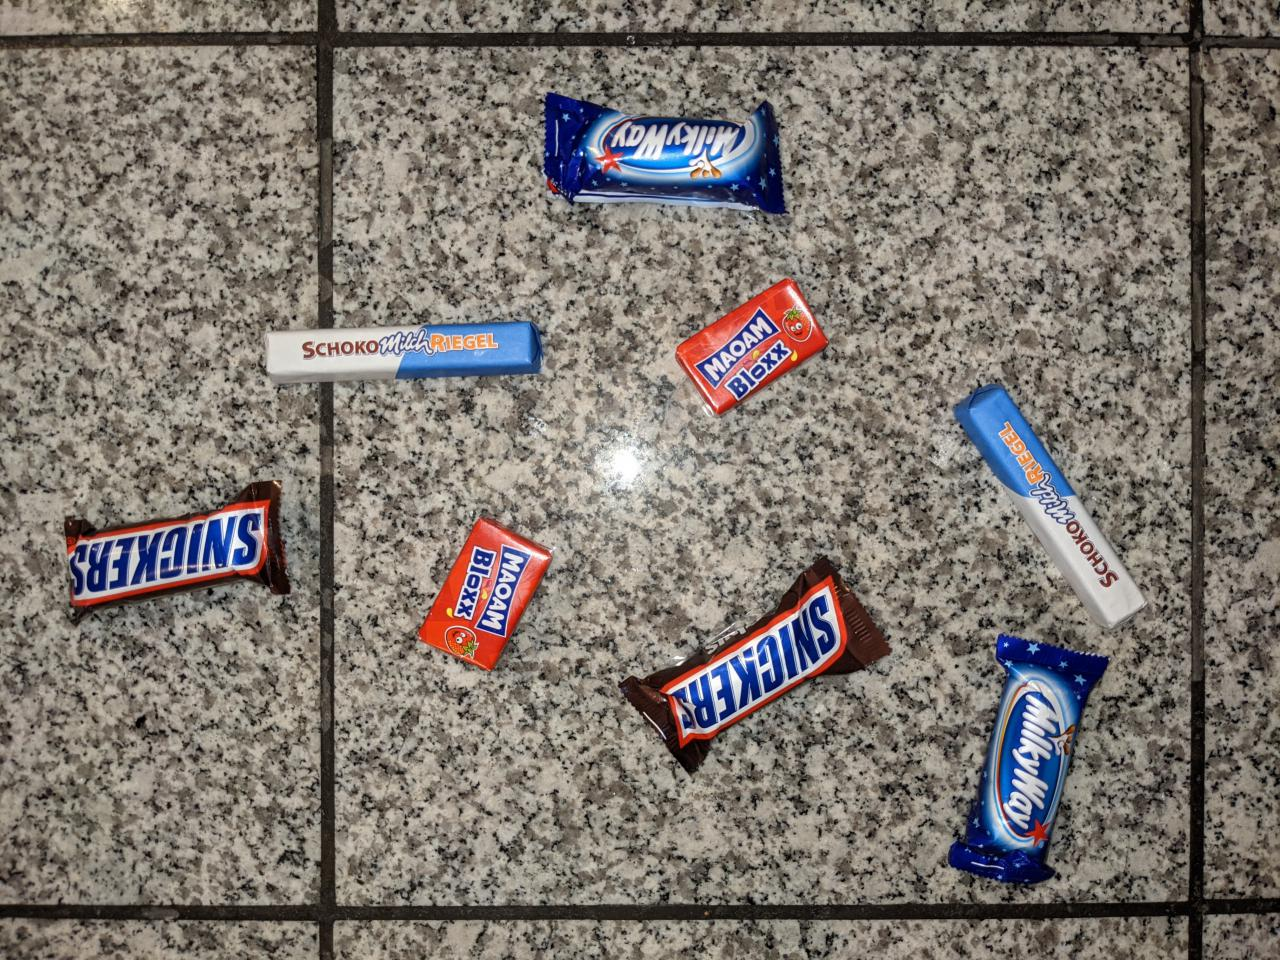MAOAM: (671, 273, 835, 423), (411, 513, 557, 675)
MilkyWay: (940, 628, 1115, 893), (536, 84, 791, 221)
Schokoriegel: (949, 376, 1155, 636), (257, 314, 549, 390)
Snickers: (614, 549, 897, 781), (56, 475, 296, 630)
